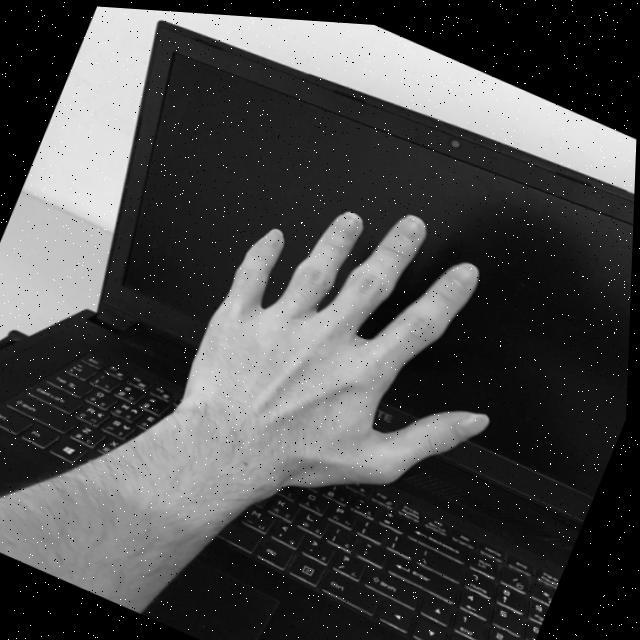no-gloves: (163, 141, 556, 538)
